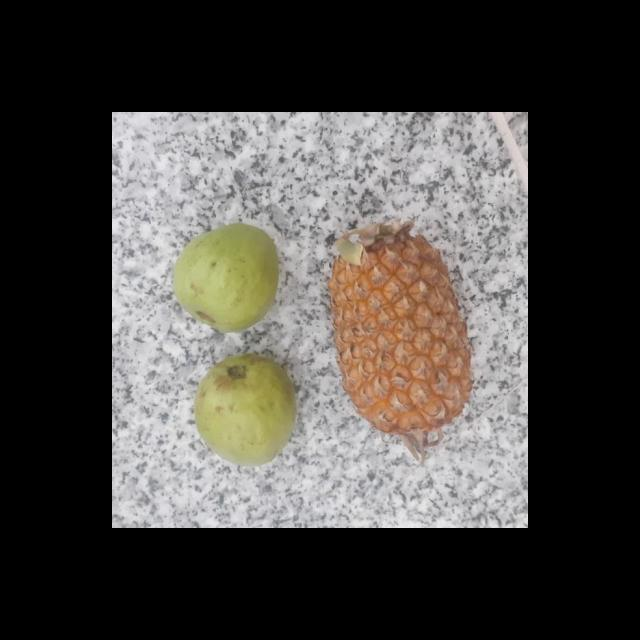guava: (190, 362, 298, 464), (170, 228, 278, 328)
pineapple: (326, 227, 470, 440)
